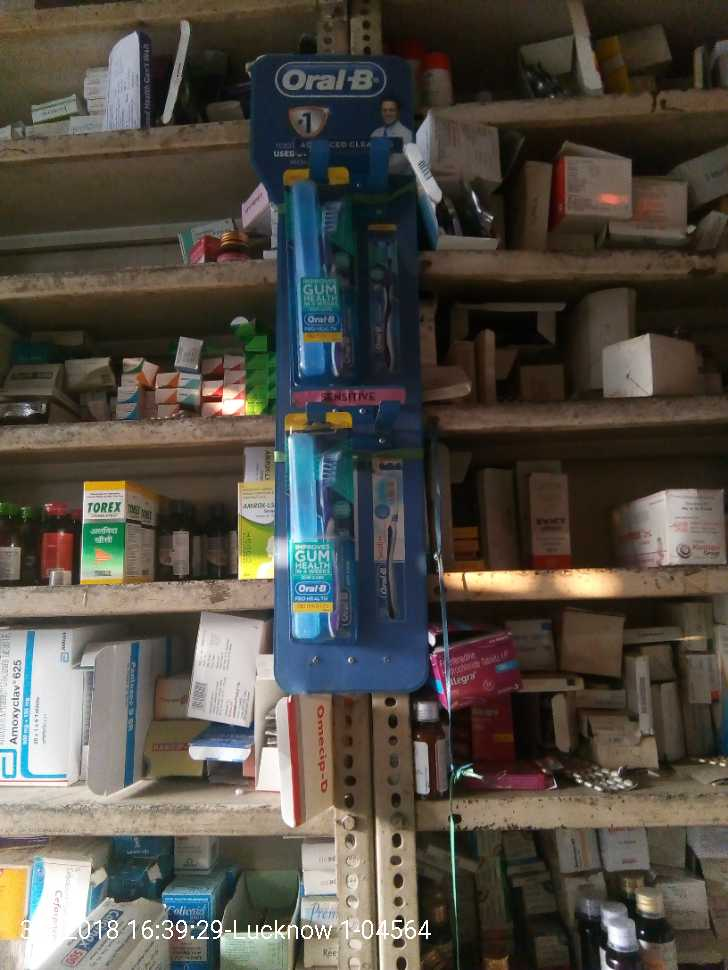oralb: (283, 408, 357, 646), (283, 169, 361, 379)
